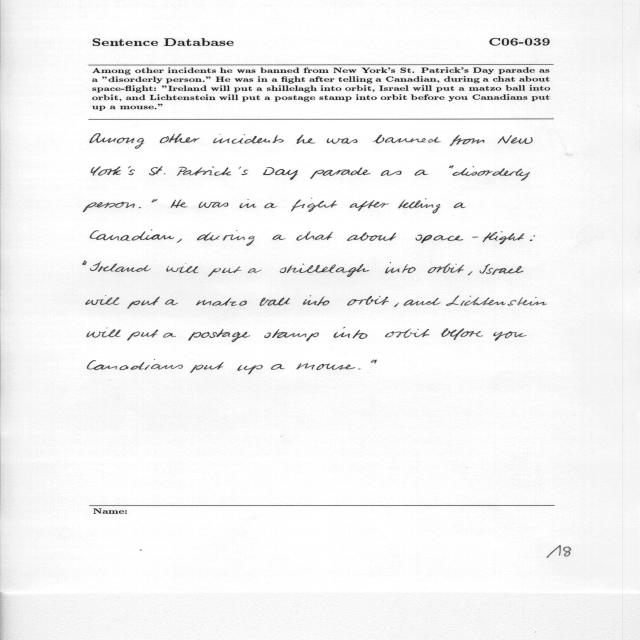word: (416, 232, 525, 245), (280, 263, 370, 277), (453, 166, 531, 181), (446, 295, 547, 306), (87, 359, 183, 370), (90, 229, 174, 241), (197, 230, 255, 246), (90, 133, 144, 149), (188, 329, 250, 342), (177, 166, 248, 176), (310, 168, 371, 179), (264, 329, 319, 341), (291, 198, 337, 212), (213, 135, 284, 144), (399, 199, 441, 214), (372, 135, 441, 144), (90, 262, 151, 272), (83, 202, 135, 212), (441, 328, 483, 340), (480, 264, 524, 275), (263, 167, 298, 180), (347, 232, 396, 241), (91, 166, 135, 176), (386, 328, 430, 338), (350, 200, 389, 211), (127, 296, 160, 309), (347, 296, 389, 306), (297, 363, 356, 370), (196, 298, 247, 306), (334, 327, 368, 339), (160, 134, 200, 144), (450, 135, 485, 146), (208, 266, 242, 277), (190, 362, 224, 373), (296, 231, 333, 241), (428, 264, 464, 274), (385, 262, 416, 273), (127, 330, 158, 341), (86, 296, 120, 306), (87, 328, 121, 338), (493, 331, 527, 341), (166, 263, 199, 273), (497, 135, 533, 144), (404, 298, 441, 306), (303, 295, 329, 306), (260, 298, 290, 306), (237, 365, 263, 374), (297, 134, 316, 144), (327, 138, 357, 144), (199, 202, 229, 208), (240, 199, 257, 208), (149, 167, 165, 176), (171, 199, 187, 208), (381, 170, 402, 176), (415, 169, 428, 176), (273, 234, 286, 240), (165, 299, 178, 305), (271, 364, 284, 370), (248, 268, 262, 273), (265, 203, 278, 208), (163, 333, 176, 338), (454, 203, 466, 208), (530, 235, 535, 241), (371, 360, 377, 364), (177, 239, 182, 243), (468, 272, 473, 276), (394, 303, 399, 307), (152, 199, 158, 202), (83, 261, 87, 265), (449, 166, 454, 168), (358, 368, 361, 370), (139, 207, 141, 208)
